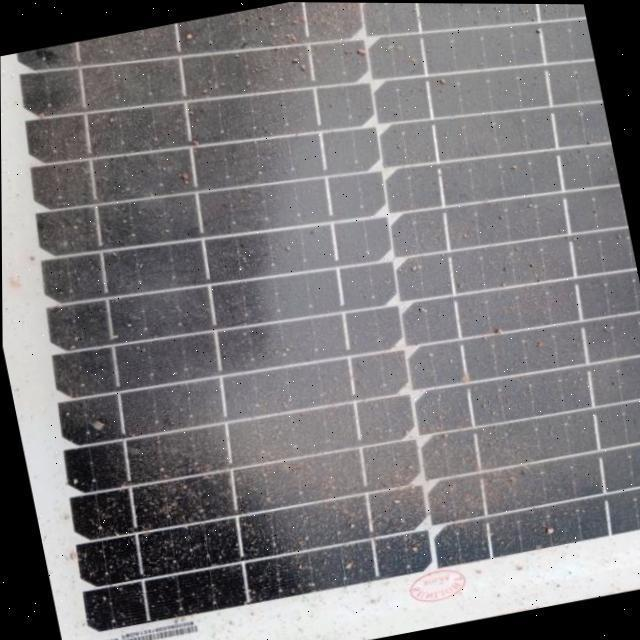Surface Contaminant: (0, 2, 640, 628)
